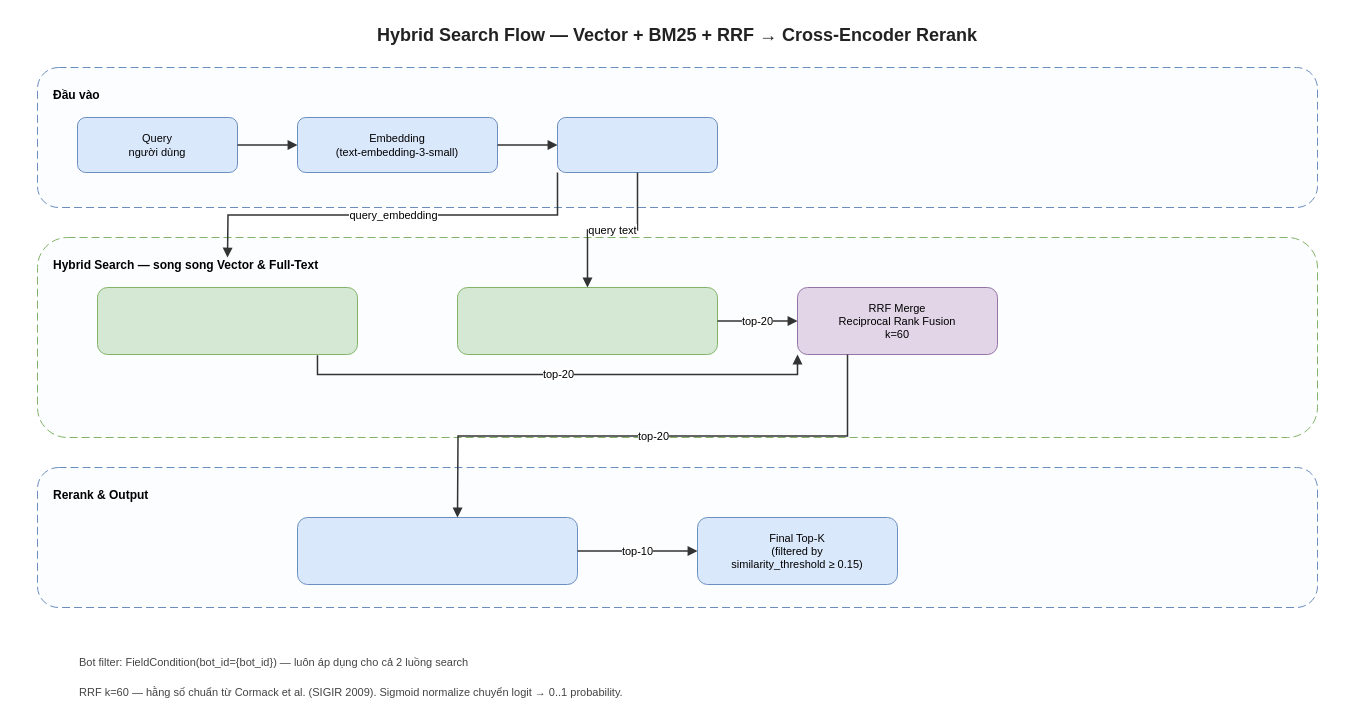
The diagram is 1354 pixels wide and 724 high, and some of its shapes have lost their labels. The shapes that lost their labels are listed below. From the top down, each one's centre as x and y in pixels, then its label:
At point (637, 144): "Vector 1536-dim".
At point (227, 320): "Vector Search (HNSW Cosine Similarity) Qdrant query_points".
At point (587, 320): "Sparse BM25 Vector FastEmbed + IDF Qdrant named vector".
At point (437, 550): "Cross-Encoder Rerank ms-marco-MiniLM-L-6-v2 → sigmoid normalize".
